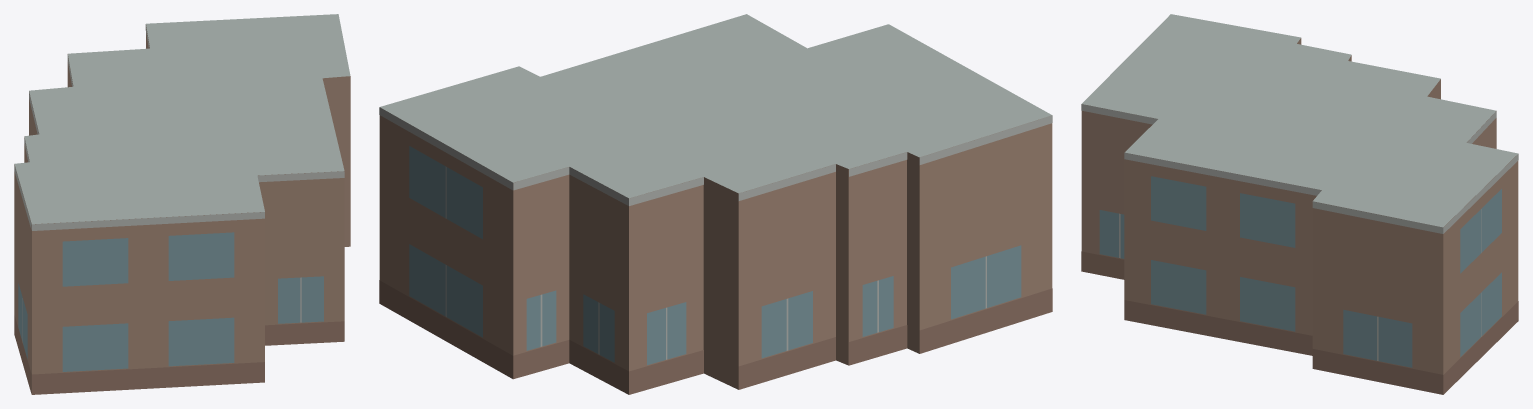
The model's file is survey-upis-32659686.glb.
3 views of the same model, side by side, from view 1: azimuth 30°, elevation 25°; view 2: azimuth 150°, elevation 25°; view 3: azimuth 270°, elevation 25° (orthographic). The views are drawn at different scales.
Parts seen in each view (by area): view 1: survey-upis-32659686.tmp; view 2: survey-upis-32659686.tmp; view 3: survey-upis-32659686.tmp.
Boxes of the visible parts, x1=… form: survey-upis-32659686.tmp: x1=14, y1=14, x2=350, y2=394; survey-upis-32659686.tmp: x1=379, y1=14, x2=1052, y2=394; survey-upis-32659686.tmp: x1=1081, y1=14, x2=1518, y2=394.
Bounding box in the file's own units: 16.68 × 6.1 × 14.44.
